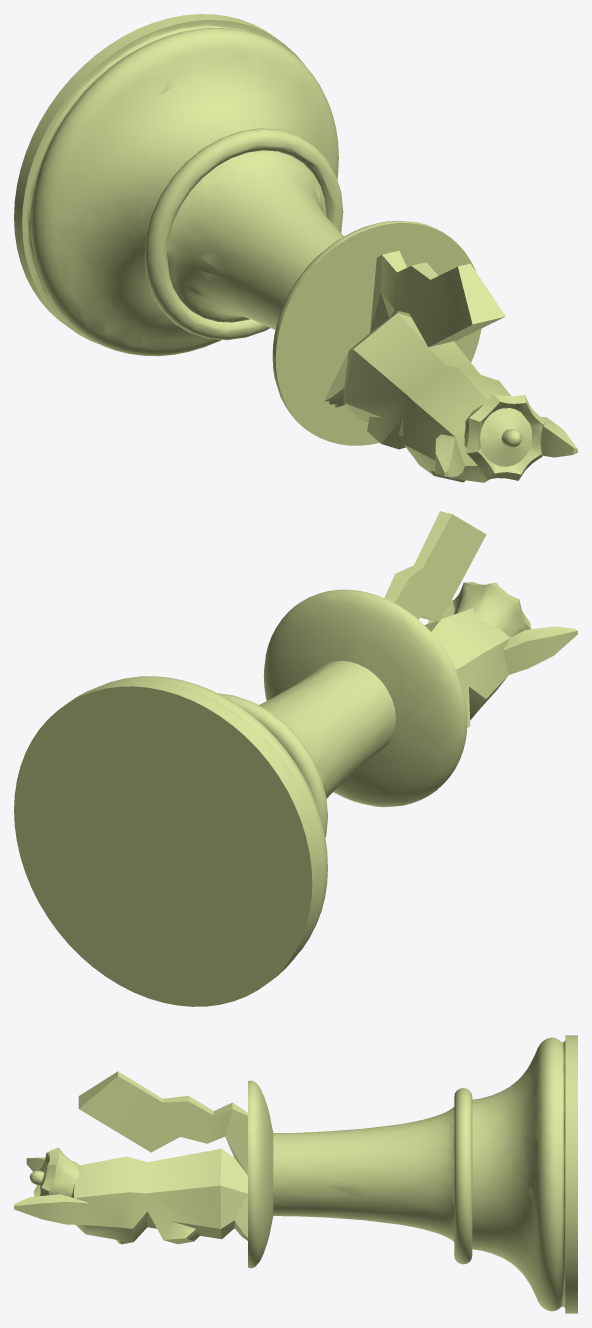
Rendered from Reina.obj.
3 renders of one model, top to bottom at view 1: azimuth 30°, elevation 25°; view 2: azimuth 150°, elevation 25°; view 3: azimuth 270°, elevation 25°, orthographic. The views are drawn at different scales.
Visible parts, largest first — view 1: Pikachu_Squeen_2; view 2: Pikachu_Squeen_2; view 3: Pikachu_Squeen_2.
Part boxes in pixels (bbox=[...]): Pikachu_Squeen_2: bbox=[14, 14, 577, 482]; Pikachu_Squeen_2: bbox=[14, 511, 577, 1006]; Pikachu_Squeen_2: bbox=[14, 1035, 577, 1313].
Bounding box in the file's own units: 34.54 × 34.54 × 69.95.
